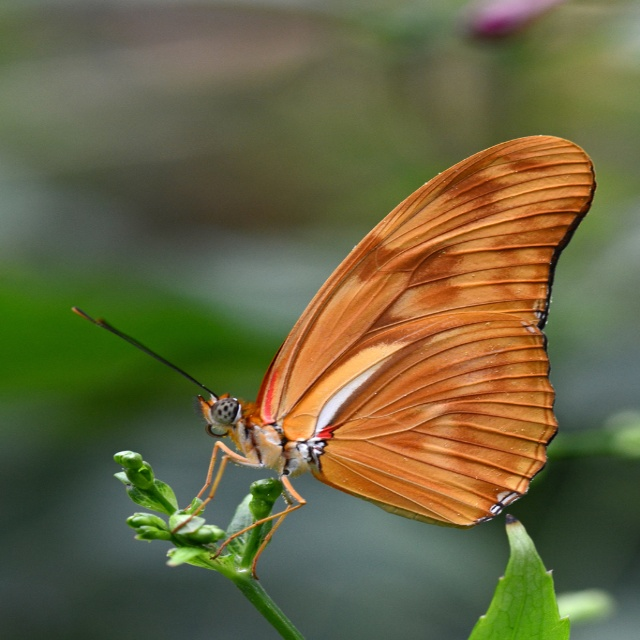Butterfly: (73, 133, 594, 580)
